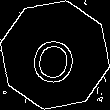O_N: (28, 25, 82, 85)
